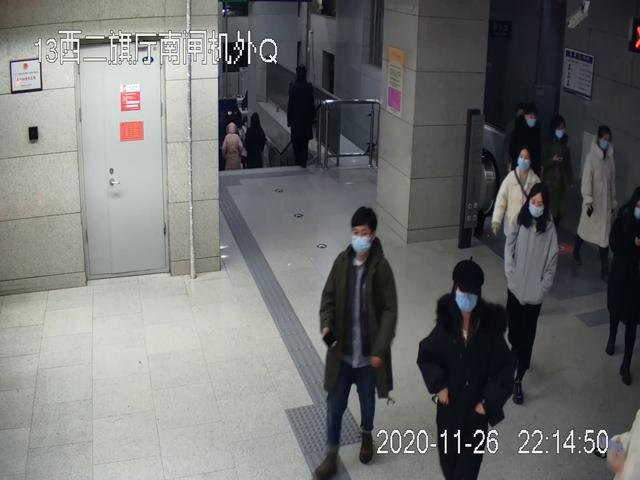person: (311, 207, 399, 480), (416, 257, 509, 480), (503, 185, 558, 404), (572, 124, 619, 280), (493, 145, 542, 294), (606, 185, 640, 386)
